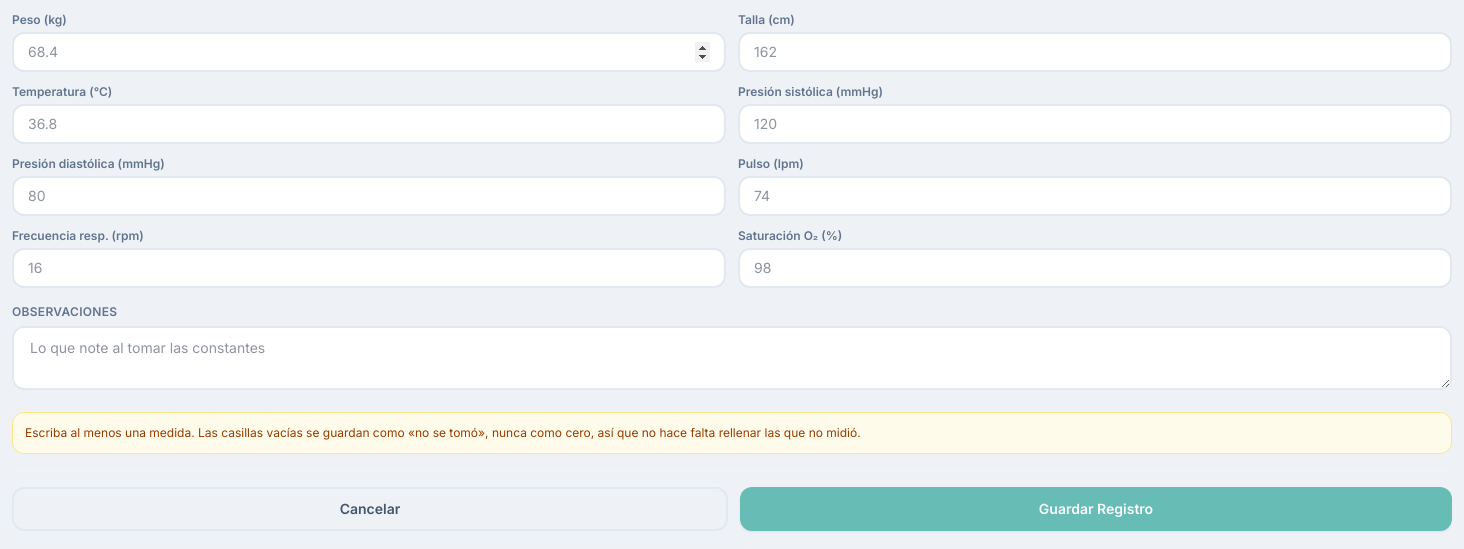
Scenario: VitalsForm · advertencia de rango normal (HU-16 criterio 2) › una temperatura de 40 °C advierte junto al campo, con el rango normal
Type "40" into the number field labelled "Temperatura (°C)".
click(369, 124); type("40")  # box left=12, top=104, right=726, bottom=144
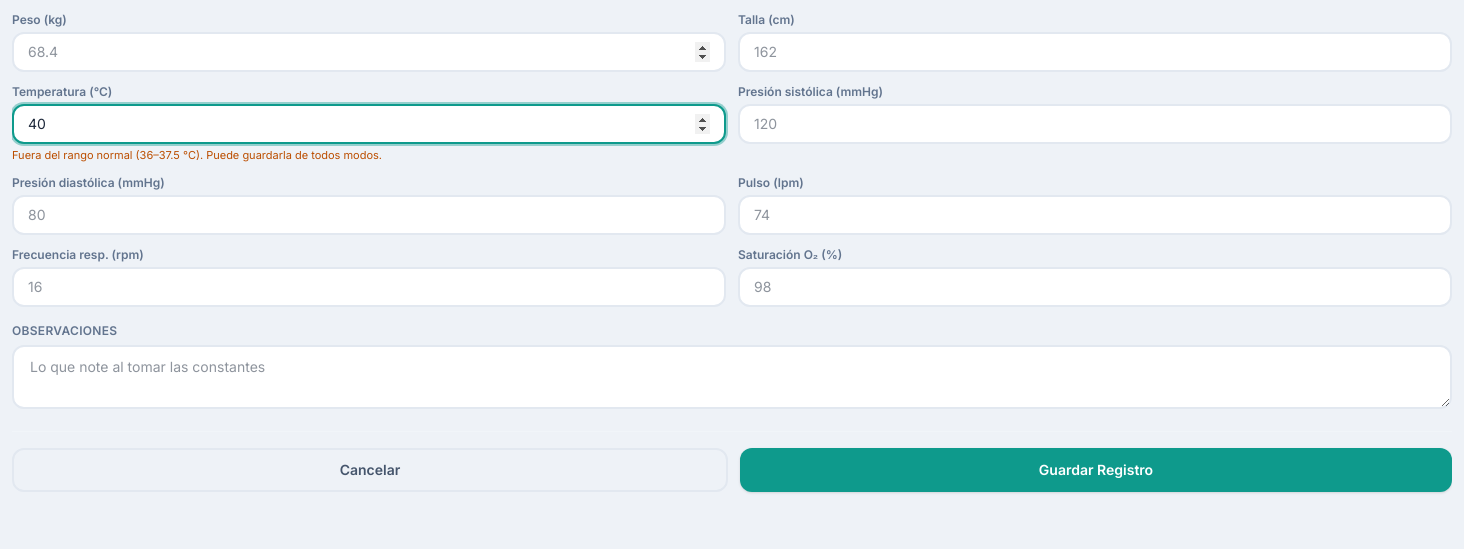
Expected: the text "Fuera del rango normal (36–37.5 °C). Puede guardarla de todos modos." is shown, left=12, top=148, right=382, bottom=162
